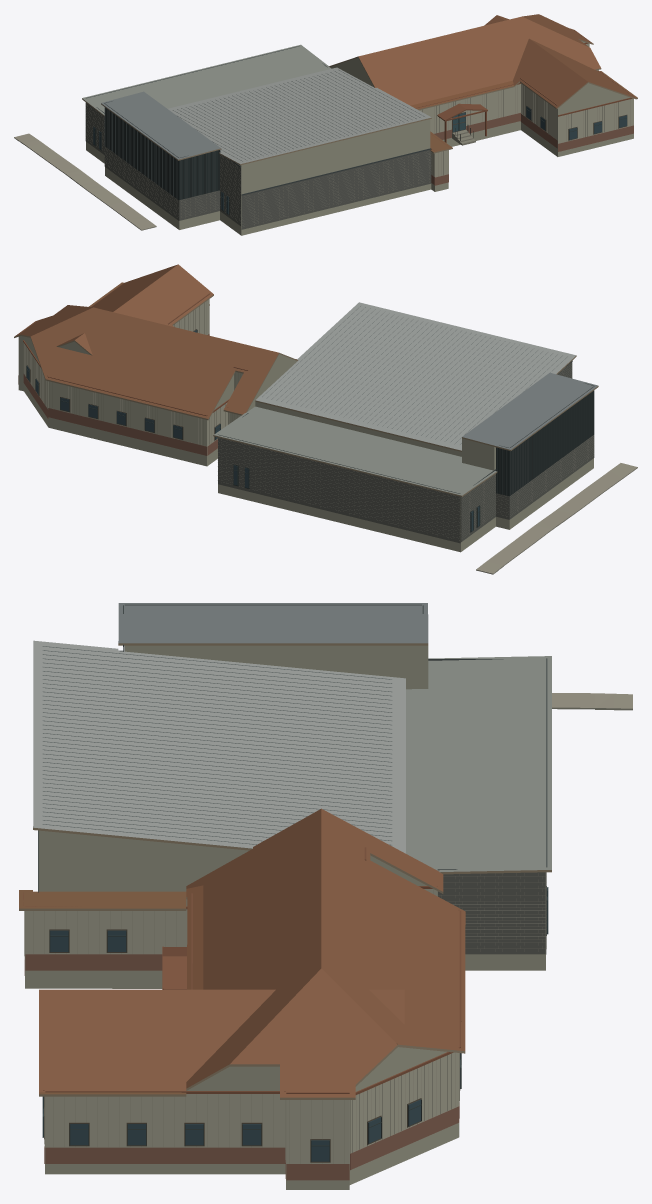
File: site.glb
The picture shows the model from 3 angles, top to bottom: view 1: azimuth 30°, elevation 25°; view 2: azimuth 150°, elevation 25°; view 3: azimuth 270°, elevation 25°; orthographic projection. The views are drawn at different scales.
Parts seen in each view (by area): view 1: roof-f0cd697a, zirc-exterior-approaches; view 2: roof-f0cd697a, zirc-exterior-approaches; view 3: roof-f0cd697a, zirc-exterior-approaches.
Boxes of the visible parts, x1=… form: roof-f0cd697a: x1=82, y1=14, x2=637, y2=235; zirc-exterior-approaches: x1=14, y1=133, x2=475, y2=230; roof-f0cd697a: x1=14, y1=264, x2=598, y2=552; zirc-exterior-approaches: x1=476, y1=463, x2=637, y2=574; roof-f0cd697a: x1=19, y1=603, x2=551, y2=1189; zirc-exterior-approaches: x1=552, y1=693, x2=632, y2=710.
Bounding box in the file's own units: 66.05 × 10.54 × 35.73.
